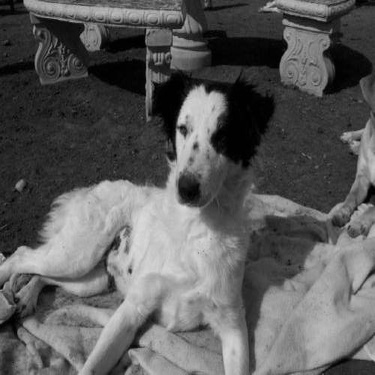dog: (3, 63, 280, 373), (325, 67, 374, 242)
